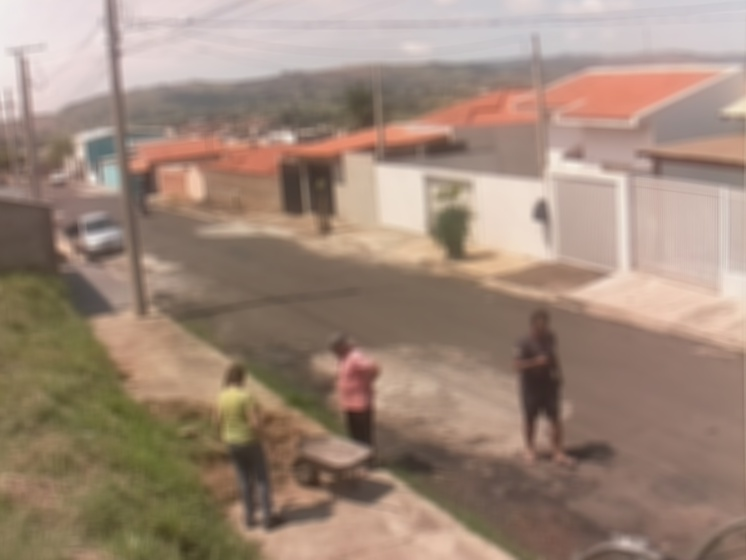person: (212, 365, 285, 530), (512, 310, 578, 468), (327, 332, 382, 474)
